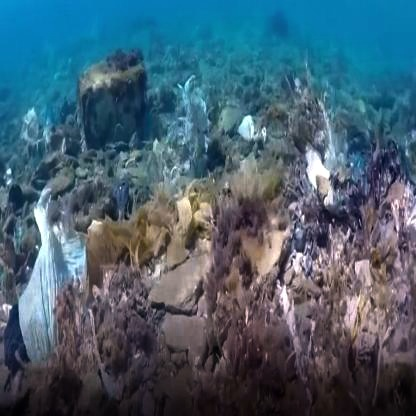plastic: (24, 186, 77, 358), (167, 63, 217, 205)
